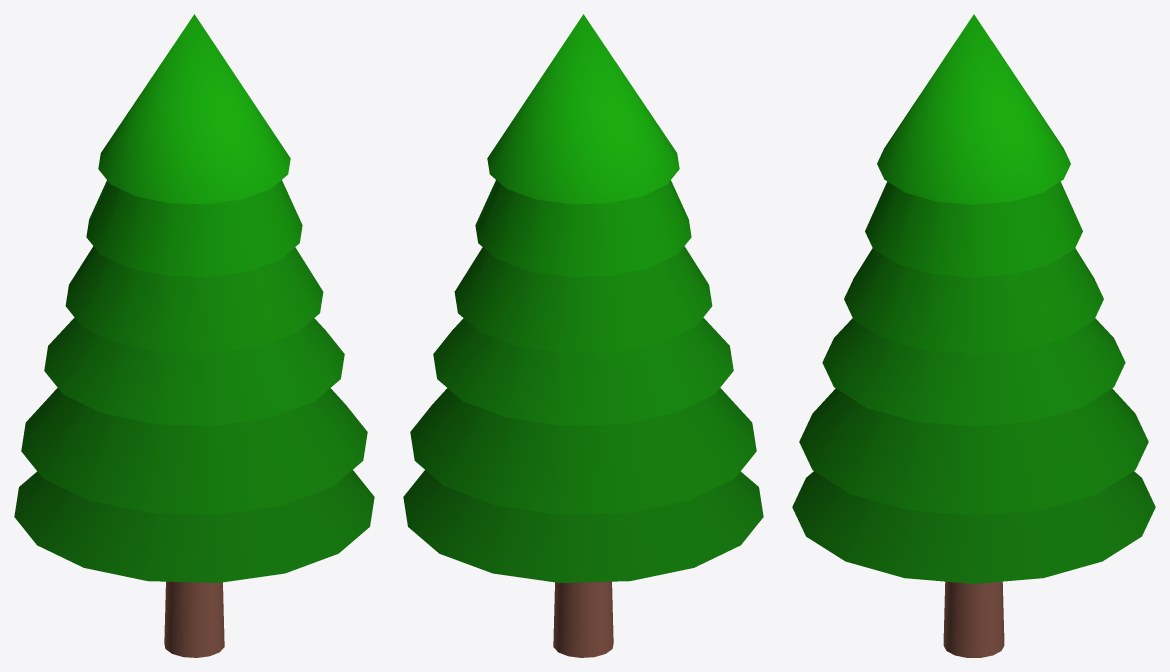
The model's file is Spruce_Cold_Green_1.fbx.
3 renders of one model, left to right at view 1: azimuth 30°, elevation 25°; view 2: azimuth 150°, elevation 25°; view 3: azimuth 270°, elevation 25°, orthographic.
Visible parts, largest first — view 1: Cylinder.1004, Cylinder.1005, Cylinder.1002, Cylinder.1003, Cylinder.1000, Cylinder.1001, Cylinder.1006; view 2: Cylinder.1004, Cylinder.1005, Cylinder.1002, Cylinder.1003, Cylinder.1000, Cylinder.1001, Cylinder.1006; view 3: Cylinder.1004, Cylinder.1005, Cylinder.1002, Cylinder.1003, Cylinder.1000, Cylinder.1001, Cylinder.1006.
Boxes of the visible parts, left/top/right/bottom form: Cylinder.1004: left=21, top=388, right=367, bottom=514; Cylinder.1005: left=14, top=470, right=374, bottom=582; Cylinder.1002: left=44, top=317, right=344, bottom=425; Cylinder.1003: left=98, top=14, right=290, bottom=204; Cylinder.1000: left=65, top=246, right=323, bottom=353; Cylinder.1001: left=86, top=180, right=302, bottom=276; Cylinder.1006: left=164, top=581, right=224, bottom=657; Cylinder.1004: left=410, top=388, right=756, bottom=514; Cylinder.1005: left=403, top=470, right=763, bottom=582; Cylinder.1002: left=433, top=317, right=733, bottom=425; Cylinder.1003: left=487, top=14, right=679, bottom=204; Cylinder.1000: left=454, top=246, right=712, bottom=353; Cylinder.1001: left=475, top=180, right=691, bottom=276; Cylinder.1006: left=553, top=581, right=613, bottom=657; Cylinder.1004: left=799, top=388, right=1148, bottom=515; Cylinder.1005: left=792, top=471, right=1155, bottom=583; Cylinder.1002: left=822, top=318, right=1125, bottom=426; Cylinder.1003: left=877, top=14, right=1070, bottom=204; Cylinder.1000: left=844, top=248, right=1103, bottom=353; Cylinder.1001: left=865, top=181, right=1082, bottom=277; Cylinder.1006: left=943, top=581, right=1004, bottom=657.
Size of the model in its own units: 276 by 529 by 276.
